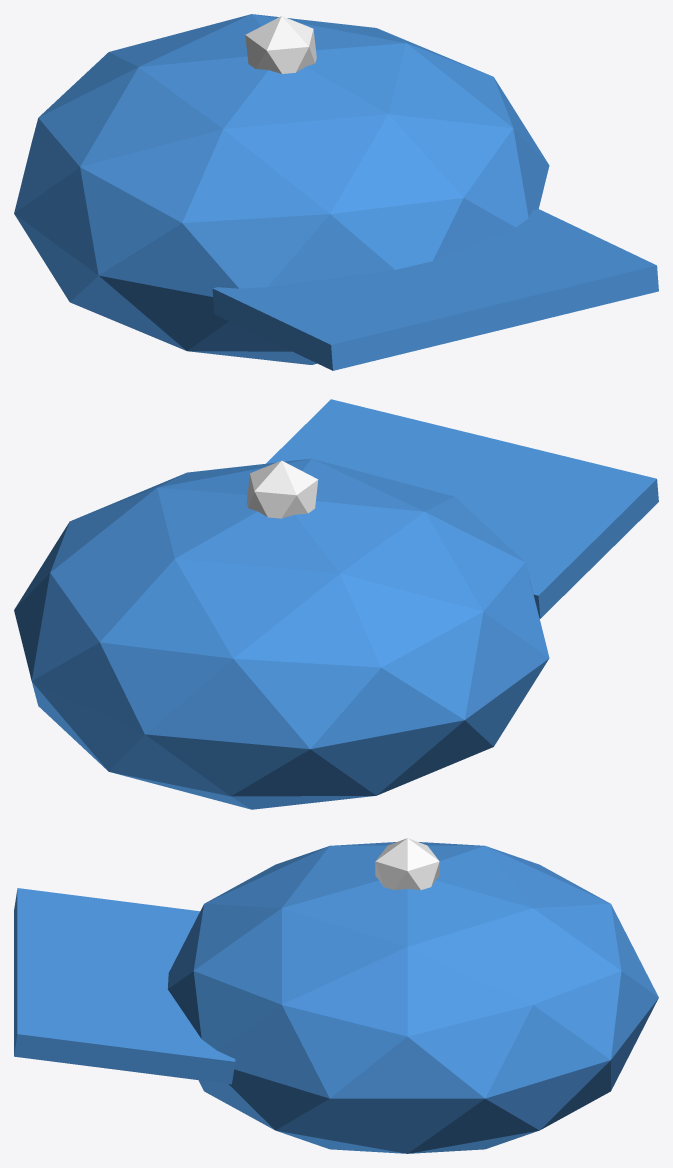
Rendered from hat_cap.glb.
The picture shows the model from 3 angles, top to bottom: view 1: azimuth 30°, elevation 25°; view 2: azimuth 150°, elevation 25°; view 3: azimuth 270°, elevation 25°; orthographic projection. The views are drawn at different scales.
Parts seen in each view (by area): view 1: hat_cap; view 2: hat_cap; view 3: hat_cap.
Part boxes in pixels (x1,y1,x2,y2): hat_cap: (14, 14, 658, 370); hat_cap: (14, 399, 658, 809); hat_cap: (14, 838, 658, 1153).
Size of the model in its own units: 0.7608 by 0.5 by 1.03.
